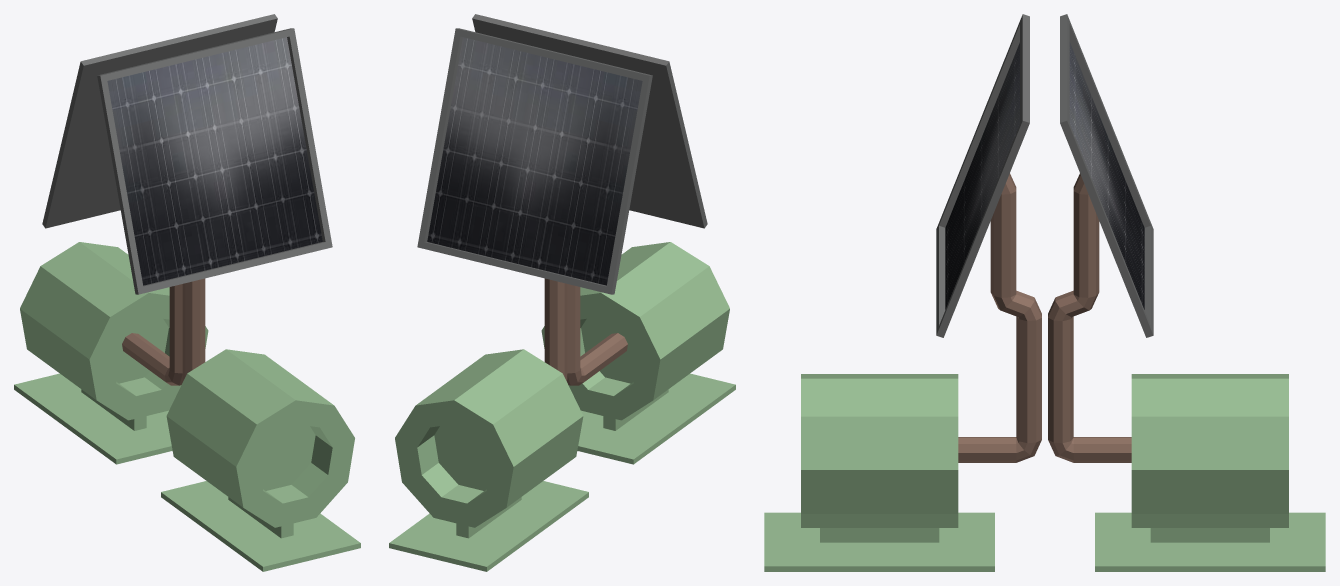
File: level 2 generator 1.fbx
3 views of the same model, side by side, from view 1: azimuth 30°, elevation 25°; view 2: azimuth 150°, elevation 25°; view 3: azimuth 270°, elevation 25° (orthographic). The views are drawn at different scales.
Visible parts, largest first — view 1: Solar panels level 2 energy; view 2: Solar panels level 2 energy; view 3: Solar panels level 2 energy.
Boxes of the visible parts, x1=… form: Solar panels level 2 energy: x1=14, y1=14, x2=360, y2=571; Solar panels level 2 energy: x1=389, y1=14, x2=735, y2=571; Solar panels level 2 energy: x1=764, y1=14, x2=1325, y2=571.
Bounding box in the file's own units: 89.99 × 188 × 200.
